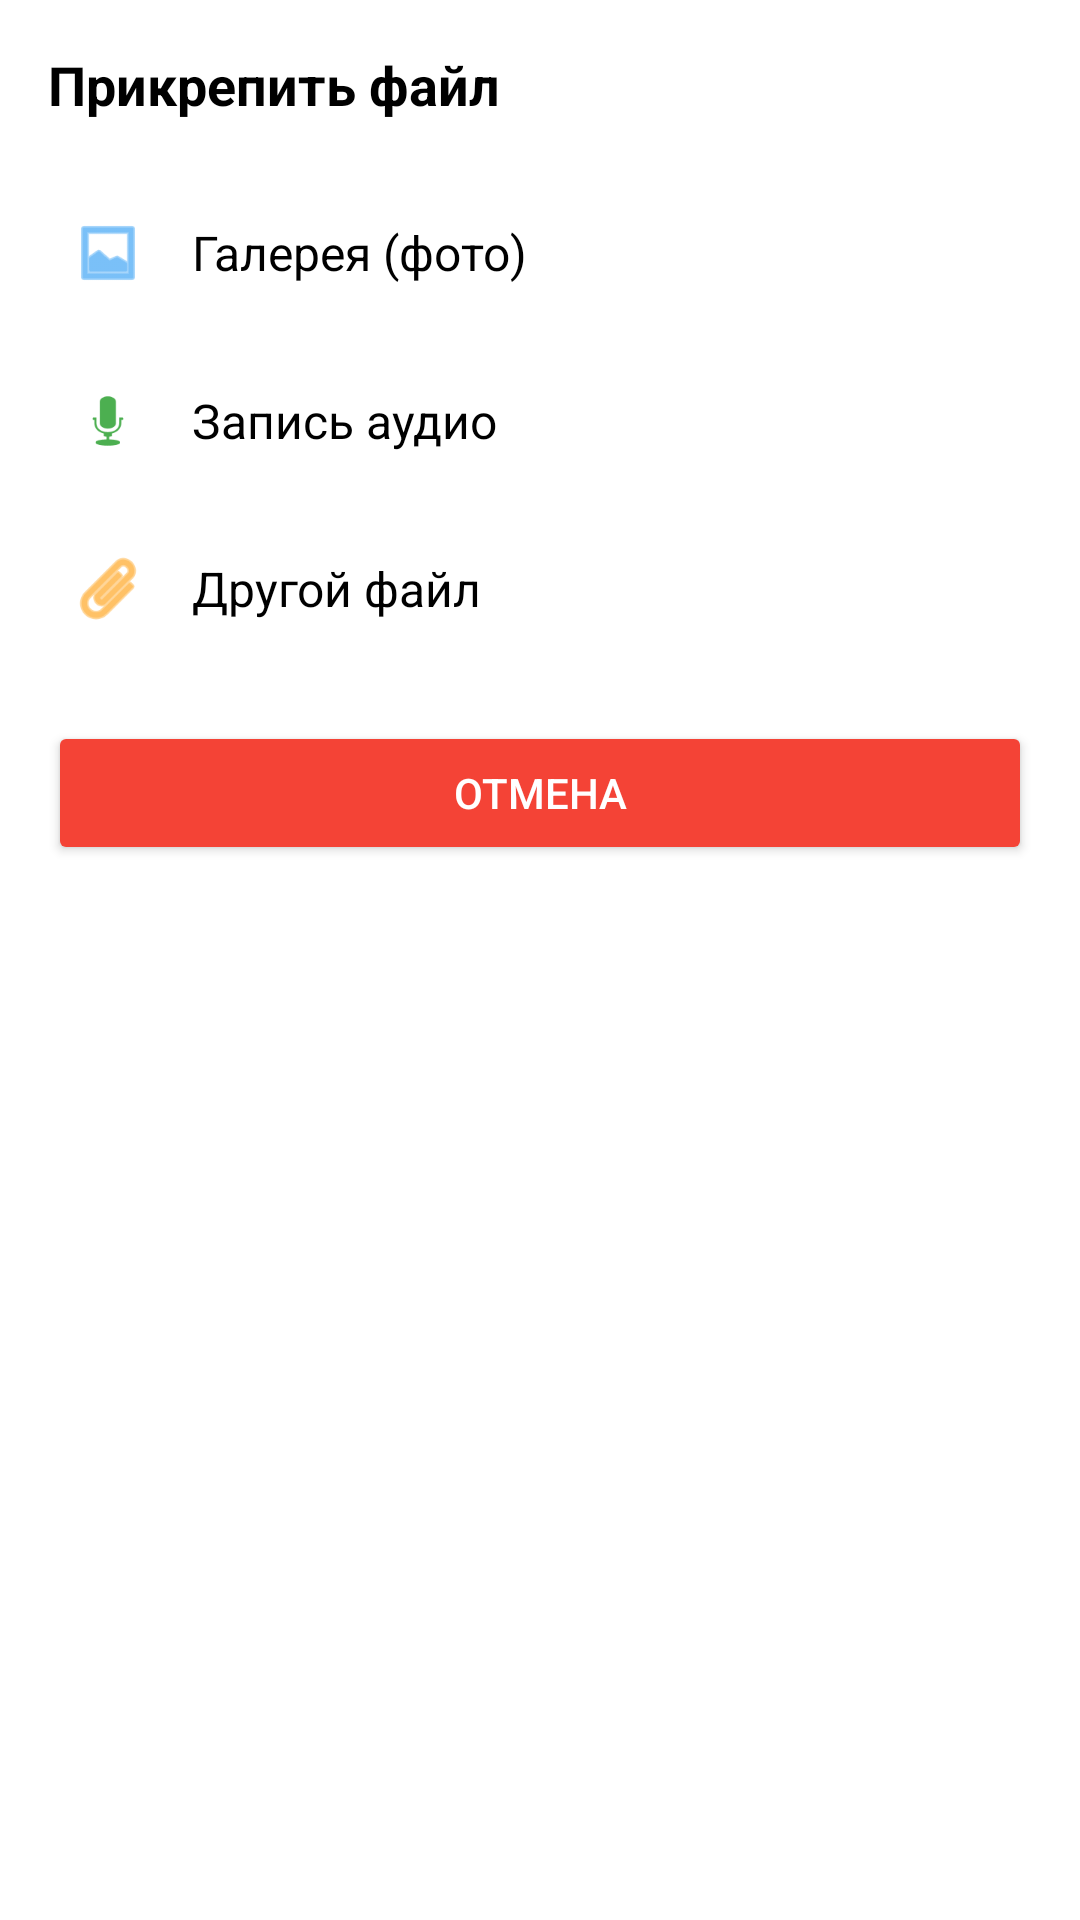

Named icons in this screenshot (1080 x 1920) and their centers, point (x, y):
attachment: point (108, 589)
gallery: point (108, 253)
speak now: point (108, 421)
